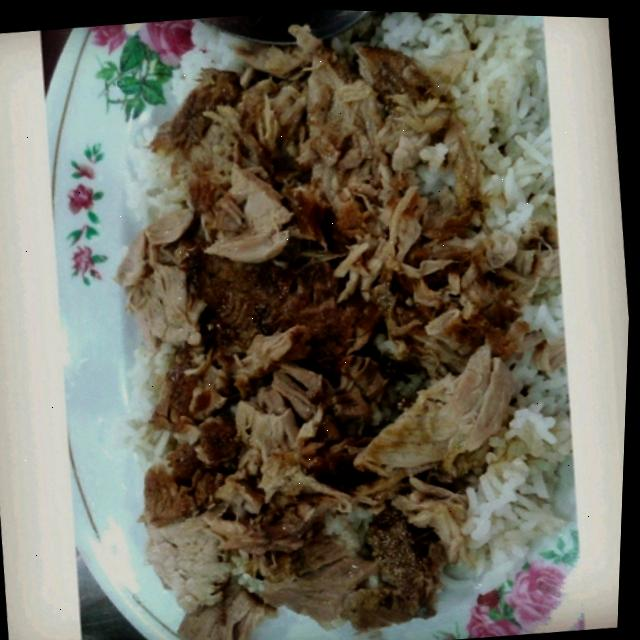猪肉菜式: (19, 5, 595, 640)
